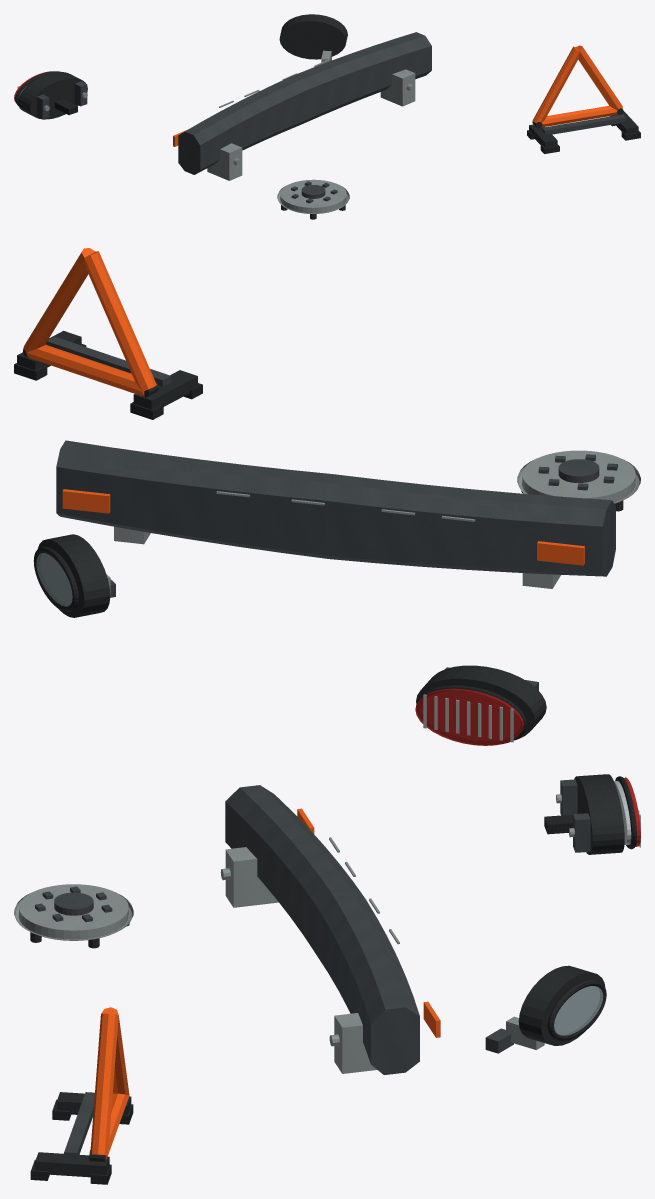
3 views of the same model, one above another, from view 1: azimuth 30°, elevation 25°; view 2: azimuth 150°, elevation 25°; view 3: azimuth 270°, elevation 25° (orthographic). The views are drawn at different scales.
Parts seen in each view (by area): view 1: VIS_Bumper_StampedSteelCore_025, VIS_Triangle_OuterReflectiveRail_019, VIS_Mirror_ABS_Casing_008, VIS_Bumper_MountBracket_026, VIS_Lamp_RearHousing_000, VIS_Hubcap_DishedDisk_013, VIS_Triangle_StabilizerBar_024, VIS_Triangle_FoldingLeg_022, VIS_Lamp_MountingEar_005, VIS_Triangle_RubberFoot_023; view 2: VIS_Bumper_StampedSteelCore_025, VIS_Triangle_OuterReflectiveRail_019, VIS_Lamp_RedLens_002, VIS_Hubcap_DishedDisk_013, VIS_Lamp_RearHousing_000, VIS_Mirror_ABS_Casing_008, VIS_Bumper_Reflector_028, VIS_Triangle_FoldingLeg_022, VIS_Lamp_ReflectorTexture_004, VIS_Mirror_ReflectiveGlass_009, VIS_Lamp_Gasket_003, VIS_Triangle_StabilizerBar_024 (+4 smaller); view 3: VIS_Bumper_StampedSteelCore_025, VIS_Hubcap_DishedDisk_013, VIS_Triangle_OuterReflectiveRail_019, VIS_Bumper_MountBracket_026, VIS_Lamp_RearHousing_000, VIS_Mirror_ABS_Casing_008, VIS_Triangle_FoldingLeg_022, VIS_Mirror_ReflectiveGlass_009, VIS_Lamp_MountingEar_005, VIS_Mirror_PerimeterSeal_010, VIS_Triangle_StabilizerBar_024, VIS_Triangle_RubberFoot_023 (+2 smaller).
Boxes of the visible parts, x1=… form: VIS_Bumper_StampedSteelCore_025: x1=178, y1=32, x2=431, y2=174; VIS_Triangle_OuterReflectiveRail_019: x1=532, y1=45, x2=622, y2=127; VIS_Mirror_ABS_Casing_008: x1=279, y1=14, x2=347, y2=59; VIS_Bumper_MountBracket_026: x1=207, y1=69, x2=415, y2=180; VIS_Lamp_RearHousing_000: x1=18, y1=72, x2=87, y2=119; VIS_Hubcap_DishedDisk_013: x1=280, y1=179, x2=346, y2=213; VIS_Triangle_StabilizerBar_024: x1=542, y1=114, x2=626, y2=134; VIS_Triangle_FoldingLeg_022: x1=529, y1=111, x2=638, y2=147; VIS_Lamp_MountingEar_005: x1=36, y1=81, x2=87, y2=119; VIS_Triangle_RubberFoot_023: x1=527, y1=124, x2=640, y2=153; VIS_Bumper_StampedSteelCore_025: x1=56, y1=440, x2=615, y2=576; VIS_Triangle_OuterReflectiveRail_019: x1=23, y1=248, x2=156, y2=396; VIS_Lamp_RedLens_002: x1=415, y1=688, x2=523, y2=745; VIS_Hubcap_DishedDisk_013: x1=522, y1=450, x2=635, y2=503; VIS_Lamp_RearHousing_000: x1=416, y1=665, x2=546, y2=740; VIS_Mirror_ABS_Casing_008: x1=38, y1=534, x2=110, y2=617; VIS_Bumper_Reflector_028: x1=62, y1=489, x2=584, y2=565; VIS_Triangle_FoldingLeg_022: x1=17, y1=330, x2=197, y2=409; VIS_Lamp_ReflectorTexture_004: x1=423, y1=694, x2=513, y2=742; VIS_Mirror_ReflectiveGlass_009: x1=36, y1=553, x2=72, y2=606; VIS_Lamp_Gasket_003: x1=416, y1=685, x2=526, y2=743; VIS_Triangle_StabilizerBar_024: x1=46, y1=336, x2=171, y2=386; VIS_Bumper_StampedSteelCore_025: x1=225, y1=785, x2=419, y2=1074; VIS_Hubcap_DishedDisk_013: x1=19, y1=884, x2=128, y2=940; VIS_Triangle_OuterReflectiveRail_019: x1=90, y1=1007, x2=129, y2=1160; VIS_Bumper_MountBracket_026: x1=225, y1=847, x2=376, y2=1073; VIS_Lamp_RearHousing_000: x1=574, y1=774, x2=624, y2=854; VIS_Mirror_ABS_Casing_008: x1=518, y1=965, x2=605, y2=1045; VIS_Triangle_FoldingLeg_022: x1=35, y1=1092, x2=131, y2=1177; VIS_Mirror_ReflectiveGlass_009: x1=554, y1=986, x2=603, y2=1035; VIS_Lamp_MountingEar_005: x1=560, y1=779, x2=590, y2=852; VIS_Mirror_PerimeterSeal_010: x1=547, y1=980, x2=606, y2=1040; VIS_Triangle_StabilizerBar_024: x1=64, y1=1092, x2=94, y2=1159; VIS_Triangle_RubberFoot_023: x1=30, y1=1099, x2=133, y2=1184.
Size of the model in its own units: 2.9 by 0.5072 by 2.09.
9 materials, 9 textured.
